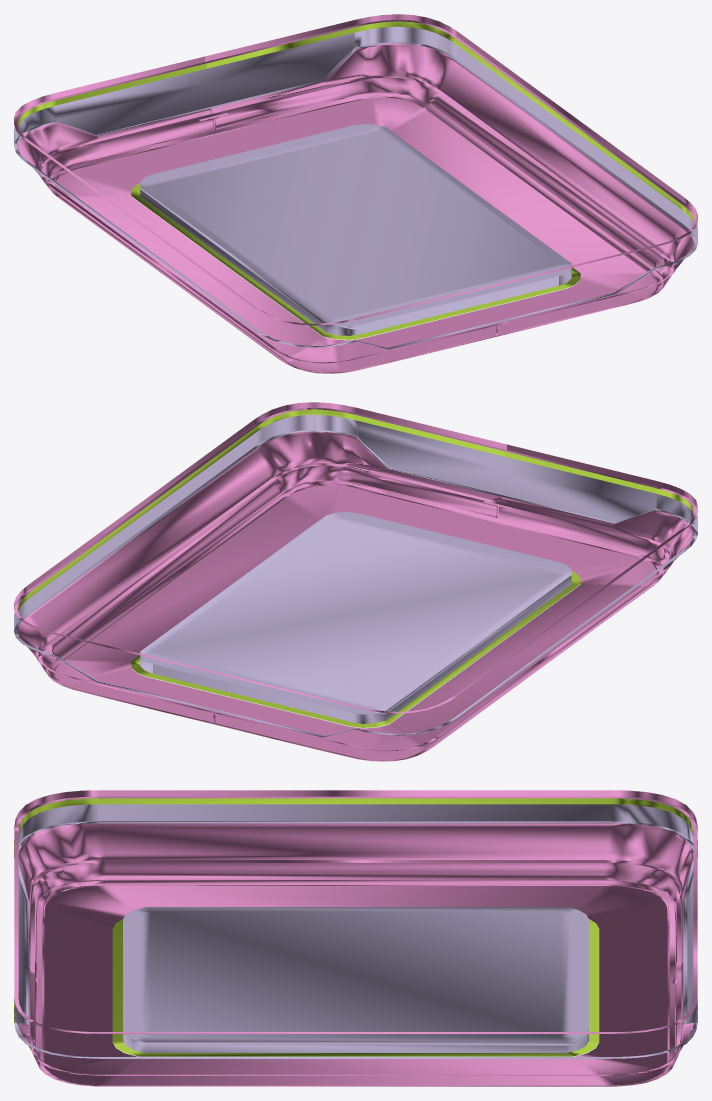
File: OverheadLight_clean_business_deco_uee_01.glb
The picture shows the model from 3 angles, top to bottom: view 1: azimuth 30°, elevation 25°; view 2: azimuth 150°, elevation 25°; view 3: azimuth 270°, elevation 25°; orthographic projection. The views are drawn at different scales.
Size of the model in its own units: 18.5 by 2.82 by 22.53.
